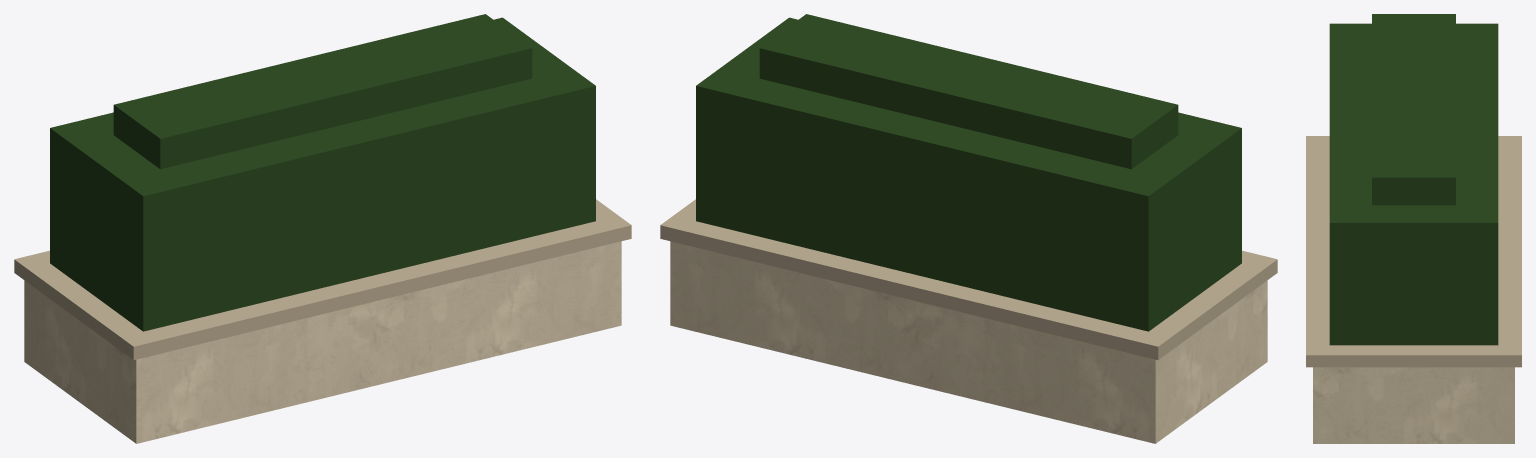
Rendered from planter_wall.glb.
The picture shows the model from 3 angles, left to right: view 1: azimuth 30°, elevation 25°; view 2: azimuth 150°, elevation 25°; view 3: azimuth 270°, elevation 25°; orthographic projection. The views are drawn at different scales.
Parts seen in each view (by area): view 1: planter_wall; view 2: planter_wall; view 3: planter_wall.
Part boxes in pixels (x1,y1,x2,y2): planter_wall: (14, 14, 631, 443); planter_wall: (660, 14, 1277, 443); planter_wall: (1306, 14, 1521, 443).
Size of the model in its own units: 3.08 by 1.58 by 1.28.
Materials: 3 (1 with a texture image).
